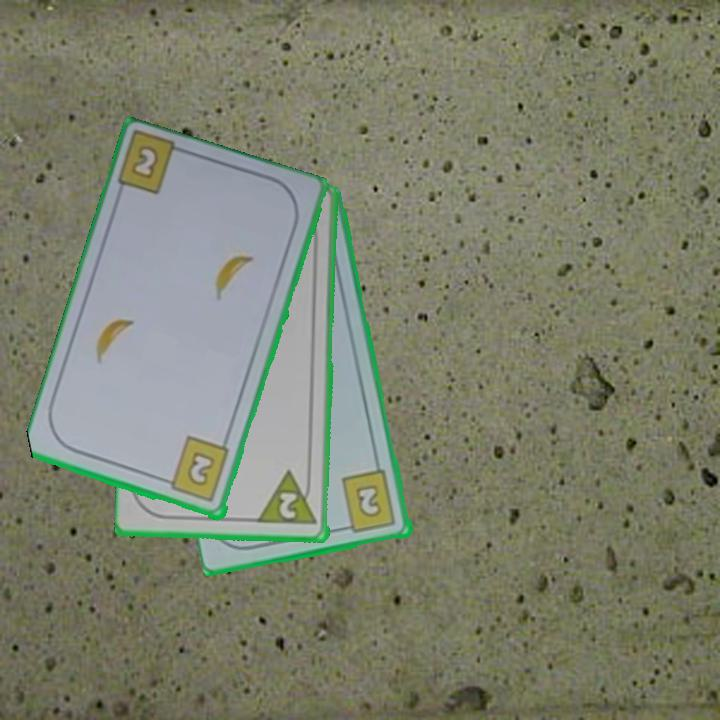2b: (159, 434, 232, 505), (338, 467, 399, 536), (127, 142, 162, 183)
2p: (256, 468, 321, 528)
